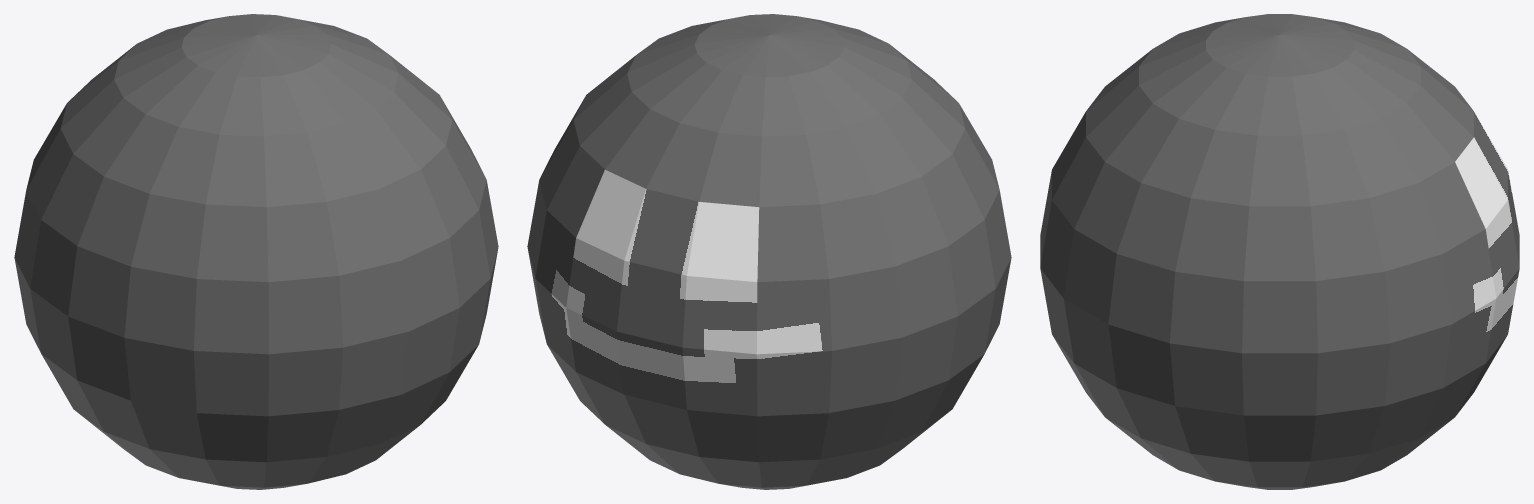
The model's file is objtest.obj.
3 renders of one model, left to right at view 1: azimuth 30°, elevation 25°; view 2: azimuth 150°, elevation 25°; view 3: azimuth 270°, elevation 25°, orthographic.
Parts seen in each view (by area): view 1: sphere; view 2: sphere; view 3: sphere.
Boxes of the visible parts, left/top/right/bottom form: sphere: left=14, top=14, right=498, bottom=489; sphere: left=527, top=14, right=1011, bottom=489; sphere: left=1040, top=14, right=1519, bottom=489.
Bounding box in the file's own units: 1 × 1 × 1.
Materials: 1 (1 with a texture image).
